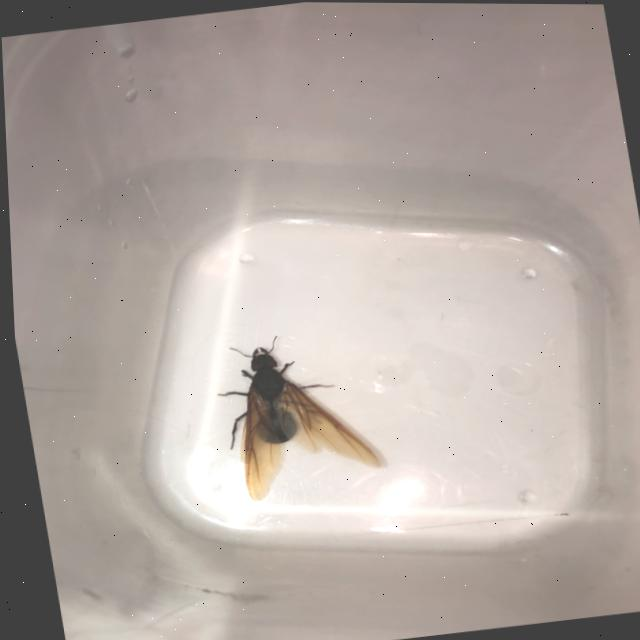Alive-Female-Alate: (206, 322, 383, 504)
